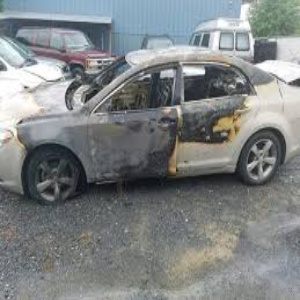door: (134, 99, 222, 201)
